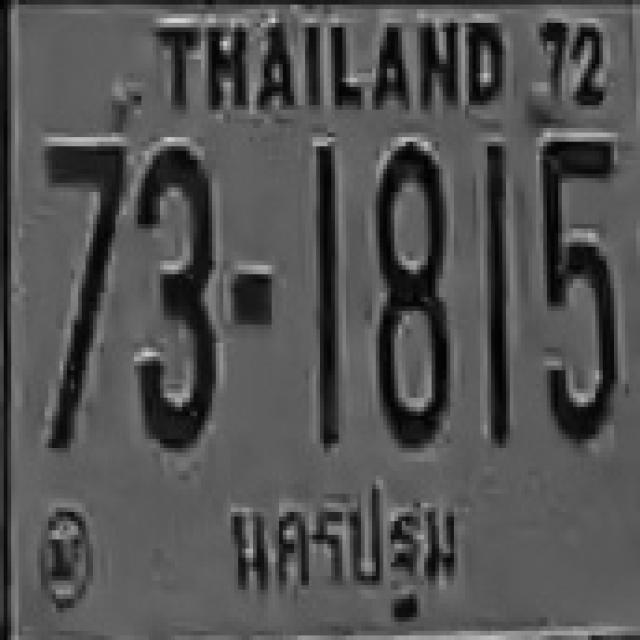1: (312, 144, 335, 382), (485, 142, 508, 366)
3: (132, 144, 214, 446)
7: (42, 142, 124, 343), (42, 144, 124, 322)
8: (374, 139, 448, 446)
NakhonPathom: (220, 479, 470, 632)
